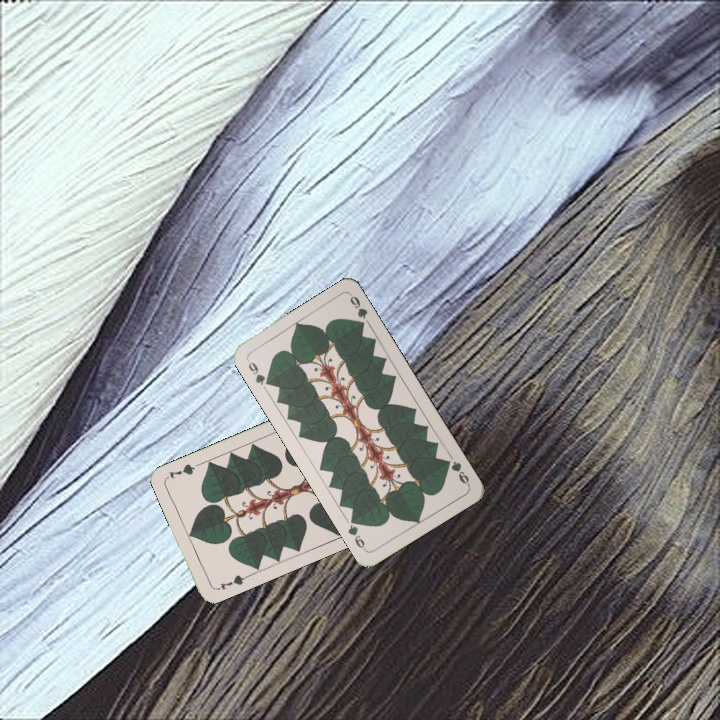G7: (211, 571, 250, 593)
G9: (440, 456, 472, 488), (243, 356, 274, 388)
